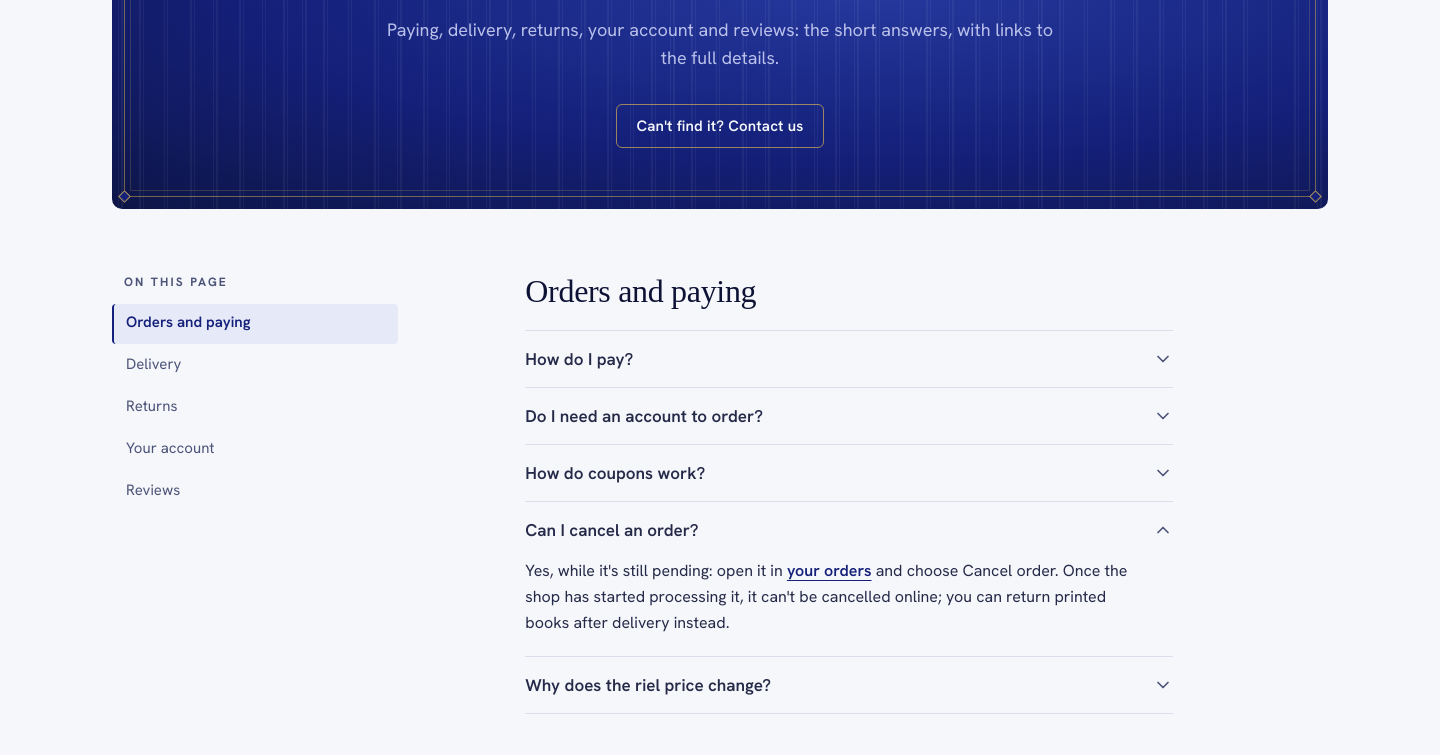
Test: help pages › FAQ opens the answer named in the address
(page scrolled)
Expected: the text "while it's still pending" is shown, 525,560 -> 787,581
Click the button "How do I pay?": {"x": 579, "y": 359} 525,331 -> 1173,387
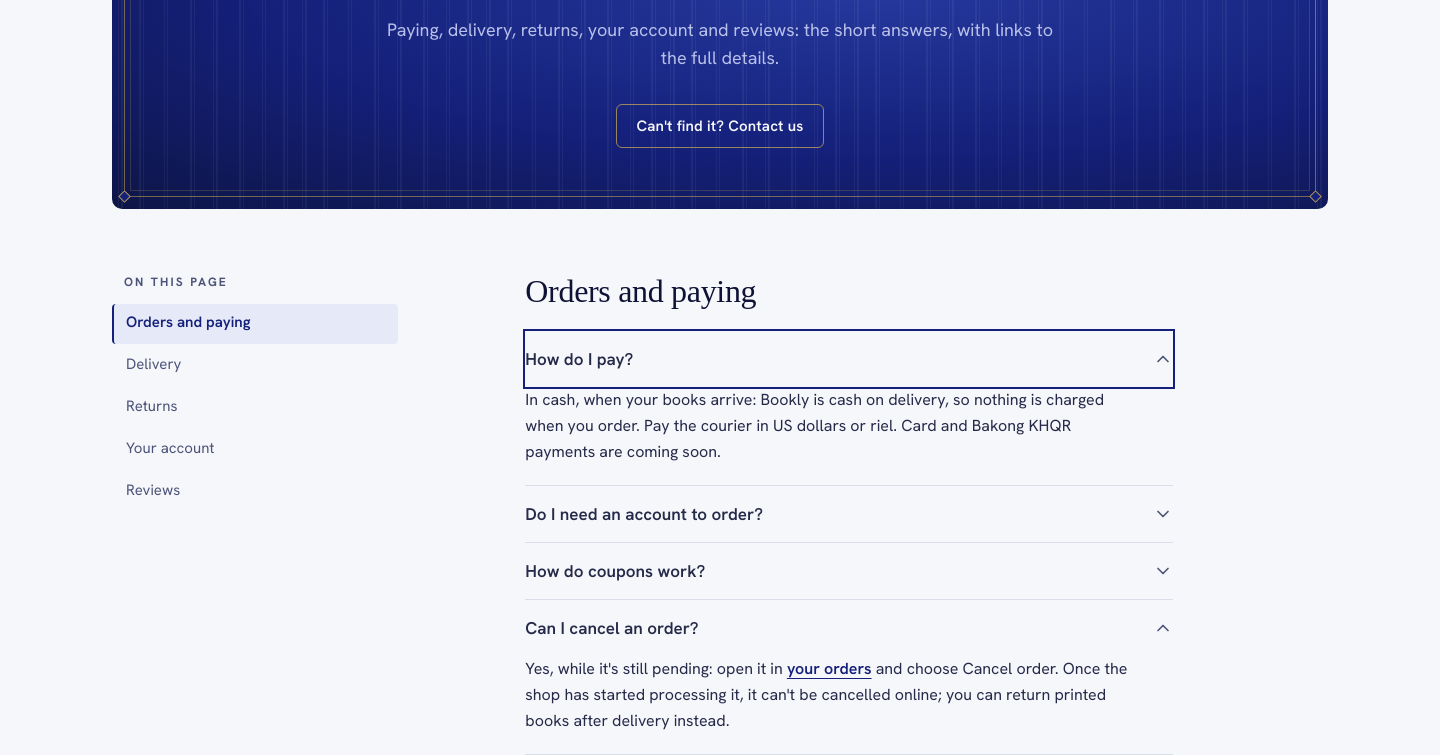
Expected: the button "How do I pay?" is expanded, 525,331 -> 1173,387
